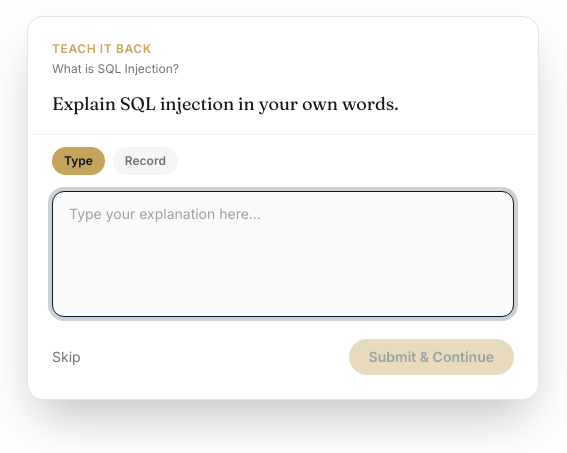
TeachBackModal › disables submit until text is entered
expect the button "Submit & Continue" is disabled: met, box [349,339,514,375]
In the text box with placeholder "Type your explanation here…": (283, 254) [52,191,514,317], type "It breaks the query."
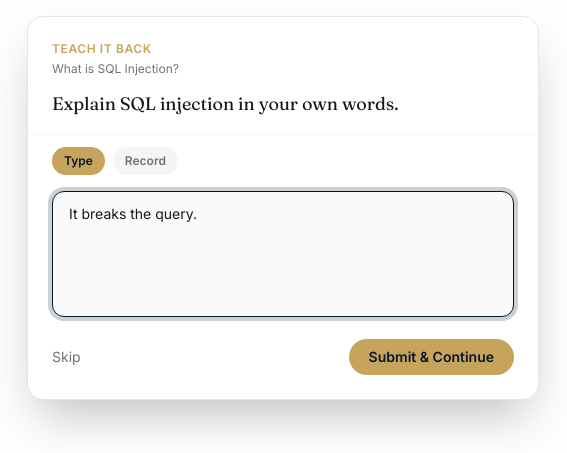
expect the button "Submit & Continue" is enabled: met, box [349,339,514,375]
